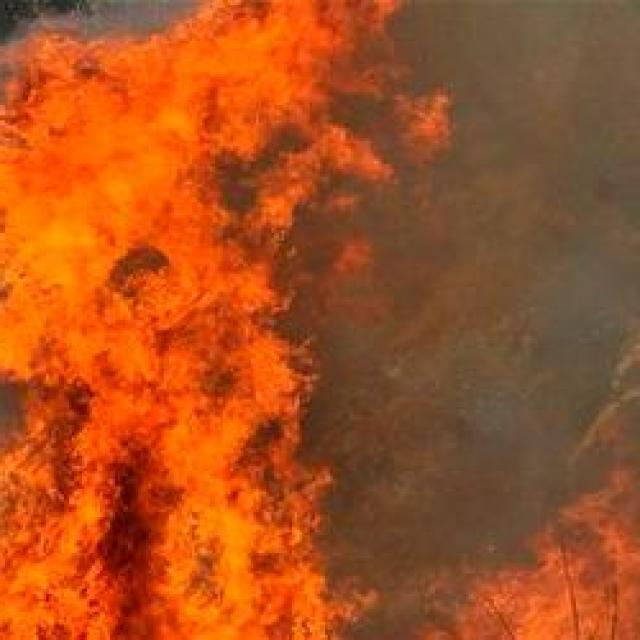fire: (0, 384, 332, 640), (0, 154, 90, 374), (40, 92, 186, 222), (168, 279, 258, 401), (188, 32, 298, 128)
